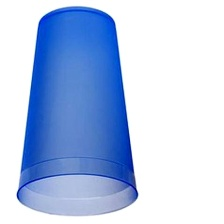glass: (14, 2, 143, 221)
